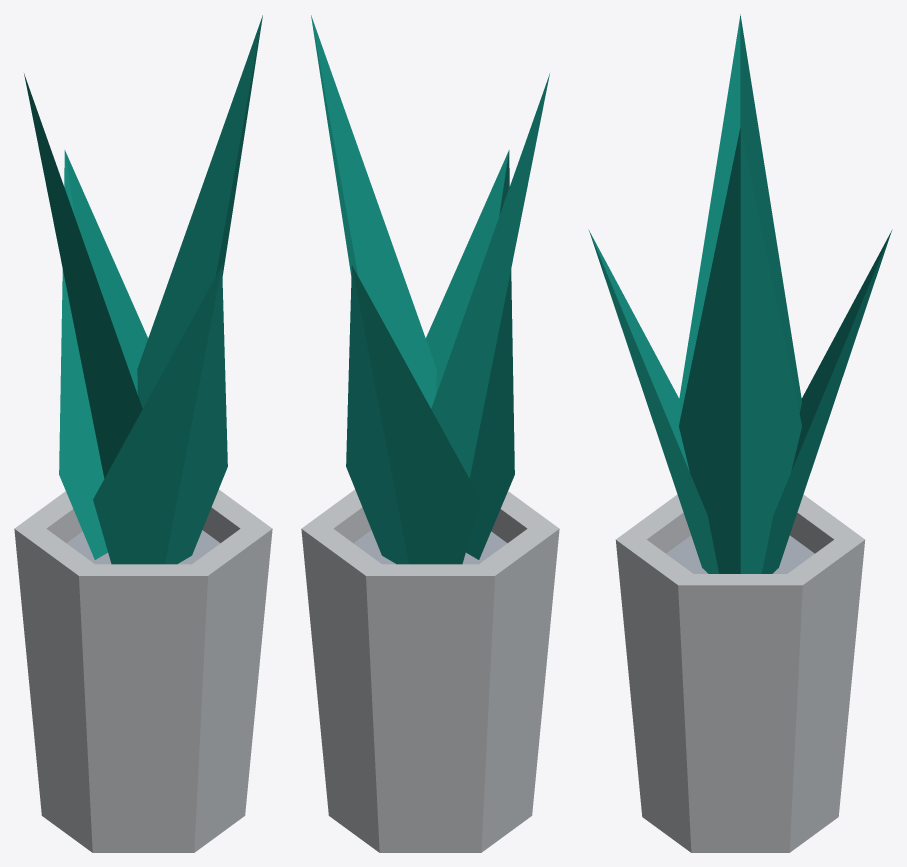
File: potted-plant.glb
The picture shows the model from 3 angles, left to right: view 1: azimuth 30°, elevation 25°; view 2: azimuth 150°, elevation 25°; view 3: azimuth 270°, elevation 25°; orthographic projection. The views are drawn at different scales.
Visible parts, largest first — view 1: pottedPlant(Clone); view 2: pottedPlant(Clone); view 3: pottedPlant(Clone).
Boxes of the visible parts, box(x1,y1,x2,y2) form: pottedPlant(Clone): box(14, 15, 272, 852); pottedPlant(Clone): box(301, 15, 559, 852); pottedPlant(Clone): box(588, 14, 892, 852).
Size of the model in its own units: 0.3243 by 1 by 0.3692.
